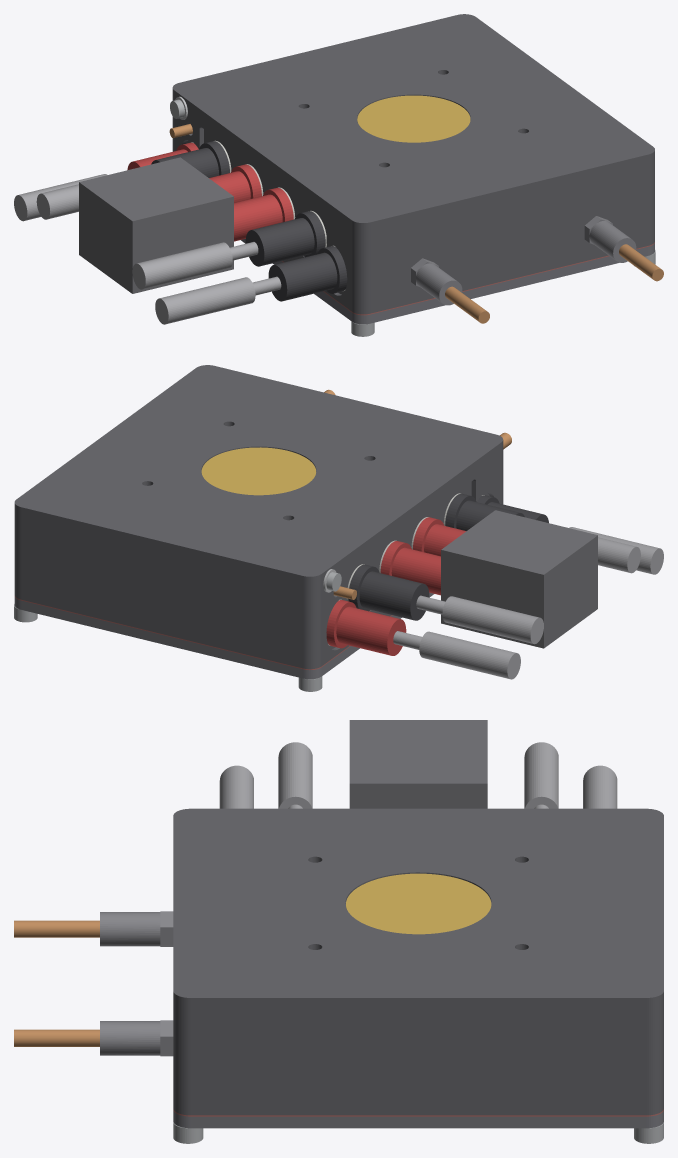
3 views of the same model, one above another, from view 1: azimuth 30°, elevation 25°; view 2: azimuth 150°, elevation 25°; view 3: azimuth 270°, elevation 25° (orthographic). The views are drawn at different scales.
Parts seen in each view (by area): view 1: p000, p044, p072, p048, p046, p132, p023, p037, p016, p142, p140, p045 (+7 smaller); view 2: p000, p044, p072, p132, p047, p045, p002, p030, p009, p046, p048, p023 (+5 smaller); view 3: p000, p044, p072, p132, p142, p140, p045, p046, p141, p143, p048, p047 (+2 smaller).
Part boxes in pixels (x1,y1,x2,y2): p000: (172,14,654,314); p044: (79,157,233,293); p072: (357,95,470,142); p048: (155,276,281,324); p046: (132,242,258,289); p132: (241,239,654,324); p023: (245,218,314,266); p037: (268,252,337,301); p016: (234,194,282,241); p142: (584,216,636,262); p140: (411,258,462,305); p045: (36,184,78,219); p000: (14,365,503,669); p044: (441,510,597,648); p072: (201,447,316,495); p132: (14,592,433,679); p047: (393,631,520,679); p045: (416,595,543,644); p002: (359,571,429,620); p030: (336,606,406,655); p009: (391,547,440,595); p046: (598,537,640,573); p048: (569,527,663,574); p023: (456,500,524,530); p000: (173,808,663,1115); p044: (349,720,487,808); p072: (346,873,491,934); p132: (173,1110,663,1128); p142: (100,1020,173,1056); p140: (100,911,173,946); p045: (524,742,558,808); p046: (278,742,312,808); p141: (14,920,99,937); p143: (14,1029,99,1046); p048: (219,765,253,808); p047: (583,765,617,808).
Bounding box in the file's own units: 163 × 37.4 × 151.
